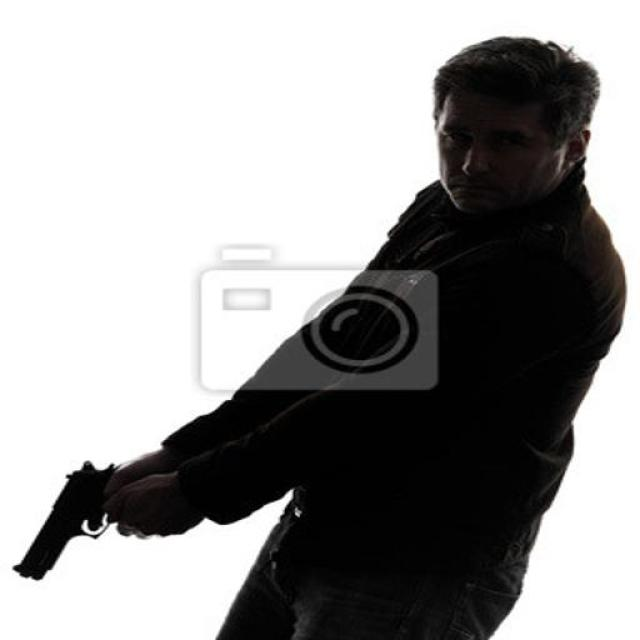pistol: (16, 449, 132, 579)
